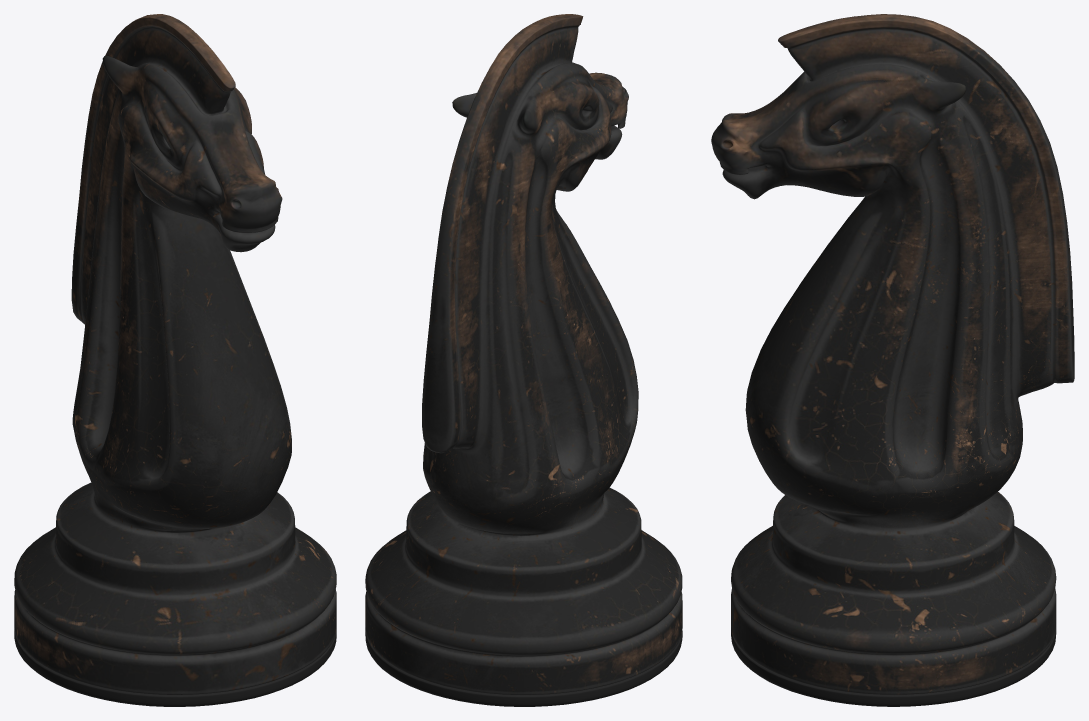
The model's file is hi_knight.glb.
The picture shows the model from 3 angles, left to right: view 1: azimuth 30°, elevation 25°; view 2: azimuth 150°, elevation 25°; view 3: azimuth 270°, elevation 25°; orthographic projection. The views are drawn at different scales.
Visible parts, largest first — view 1: Caballo002_Material #3_0; view 2: Caballo002_Material #3_0; view 3: Caballo002_Material #3_0.
Boxes of the visible parts, left/top/right/bottom form: Caballo002_Material #3_0: left=14, top=14, right=336, bottom=706; Caballo002_Material #3_0: left=365, top=14, right=682, bottom=706; Caballo002_Material #3_0: left=711, top=14, right=1074, bottom=706.
Bounding box in the file's own units: 0.0576 × 0.1219 × 0.0643.
1 material, 1 textured.
